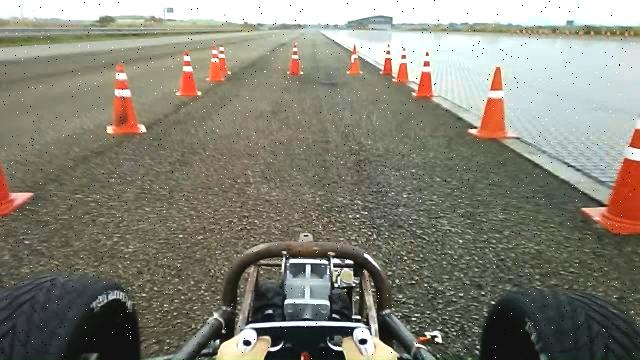red cone: (581, 112, 640, 235), (467, 66, 517, 139), (106, 62, 147, 135), (412, 50, 438, 98), (175, 50, 202, 96), (392, 46, 411, 84), (206, 44, 225, 82), (286, 42, 304, 75), (346, 43, 363, 75), (379, 43, 394, 76), (218, 44, 232, 76)
